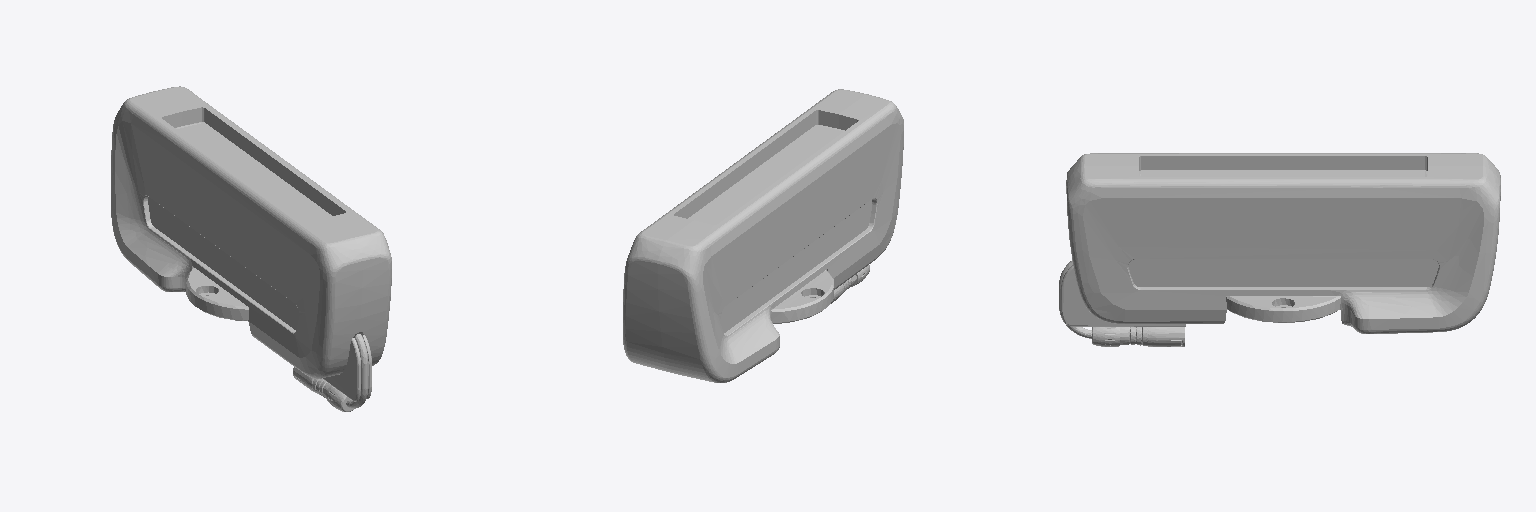
Rendered from hand.obj.
The picture shows the model from 3 angles: view 1: azimuth 30°, elevation 25°; view 2: azimuth 150°, elevation 25°; view 3: azimuth 270°, elevation 25°; orthographic projection.
Parts seen in each view (by area): view 1: node5_Part__Feature005.005, node5_001_Part__Feature005.000, node2_Part__Feature002.011, node0_Part__Feature.011, node1_Part__Feature001.011; view 2: node5_Part__Feature005.005, node5_001_Part__Feature005.000, node2_Part__Feature002.011; view 3: node5_Part__Feature005.005, node5_001_Part__Feature005.000, node2_Part__Feature002.011, node0_Part__Feature.011.
Boxes of the visible parts, x1,y1,x2,y2 form: node5_Part__Feature005.005: [111, 86, 391, 401]; node5_001_Part__Feature005.000: [148, 197, 298, 329]; node2_Part__Feature002.011: [186, 268, 248, 321]; node0_Part__Feature.011: [293, 367, 353, 411]; node1_Part__Feature001.011: [346, 334, 368, 408]; node5_Part__Feature005.005: [623, 89, 903, 382]; node5_001_Part__Feature005.000: [721, 199, 871, 332]; node2_Part__Feature002.011: [771, 270, 833, 323]; node5_Part__Feature005.005: [1061, 153, 1500, 333]; node5_001_Part__Feature005.000: [1128, 259, 1438, 286]; node2_Part__Feature002.011: [1226, 296, 1340, 322]; node0_Part__Feature.011: [1092, 327, 1184, 346].
Size of the model in its own units: 0.063 by 0.0919 by 0.2045.